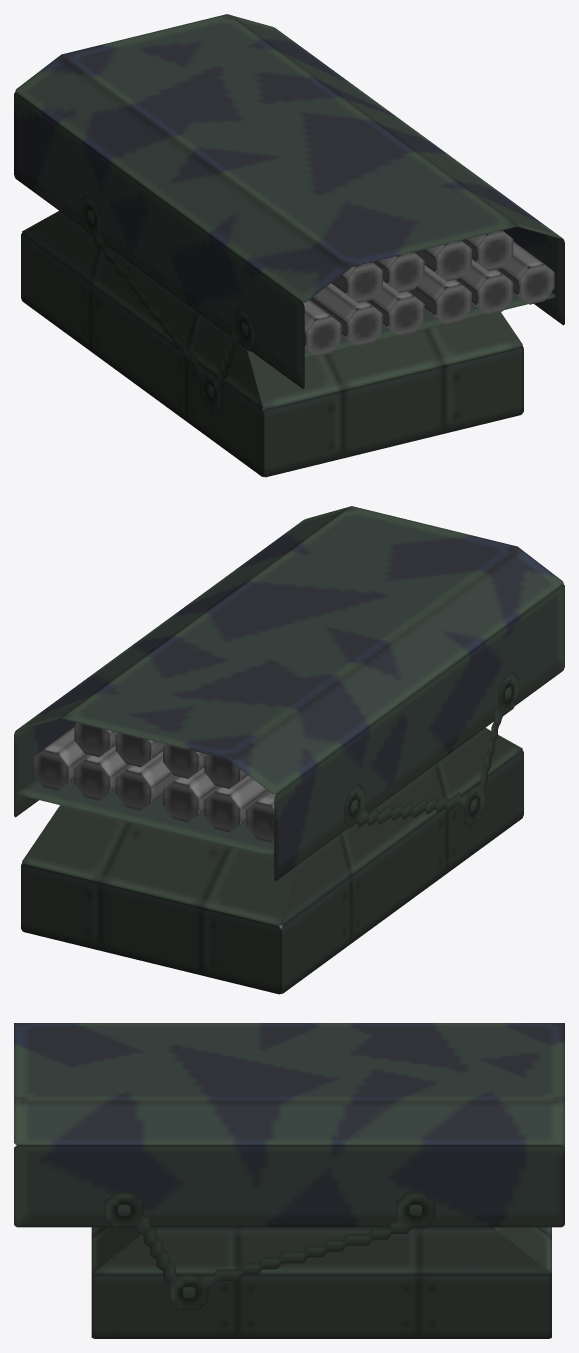
File: mlrs.obj
3 renders of one model, top to bottom at view 1: azimuth 30°, elevation 25°; view 2: azimuth 150°, elevation 25°; view 3: azimuth 270°, elevation 25°, orthographic. The views are drawn at different scales.
Visible parts, largest first — view 1: cube7, cube, cube6, cube5, cube2, cylinder15, cylinder10, cylinder, cylinder9, cylinder16, cylinder14, cylinder11 (+4 smaller); view 2: cube7, cube, cube6, cube5, cube3, cube2, cylinder10, cylinder15, cylinder, cylinder16, cylinder9, cylinder14 (+4 smaller); view 3: cube7, cube6, cube, cube5, cube1.
Boxes of the visible parts, box(x1,y1,x2,y2) form: cube7: box(15, 14, 563, 302); cube: box(21, 233, 523, 477); cube6: box(14, 92, 564, 388); cube5: box(22, 211, 522, 408); cube2: box(81, 194, 255, 413); cylinder15: box(309, 283, 382, 346); cylinder10: box(408, 266, 471, 324); cylinder: box(497, 241, 554, 304); cylinder9: box(455, 260, 513, 314); cylinder16: box(367, 281, 424, 336); cylinder14: box(303, 300, 341, 356); cylinder11: box(414, 240, 471, 281); cube7: box(15, 506, 563, 794); cube: box(21, 750, 523, 994); cube6: box(14, 584, 564, 880); cube5: box(22, 728, 522, 925); cube3: box(16, 778, 274, 856); cube2: box(344, 671, 518, 828); cylinder10: box(115, 751, 178, 810); cylinder15: box(204, 775, 269, 832); cylinder: box(32, 727, 90, 790); cylinder16: box(163, 767, 220, 822); cylinder9: box(74, 745, 131, 800); cylinder14: box(246, 792, 275, 842); cube7: box(14, 1023, 564, 1144); cube6: box(14, 1145, 564, 1227); cube: box(91, 1227, 551, 1338); cube5: box(91, 1227, 551, 1274); cube1: box(104, 1192, 435, 1310).
Bounding box in the file's own units: 2.78 × 2.31 × 5.31.
